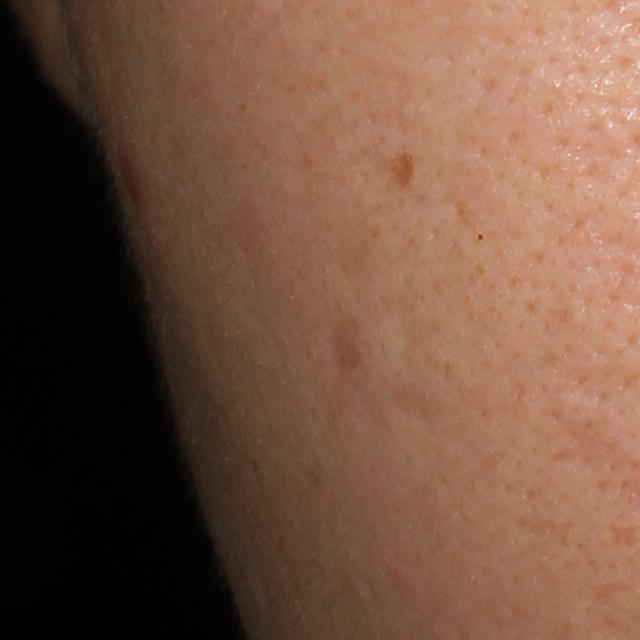atrophic_scar: (511, 492, 576, 547), (382, 379, 448, 431), (556, 364, 622, 403)
papule: (112, 141, 156, 204)
